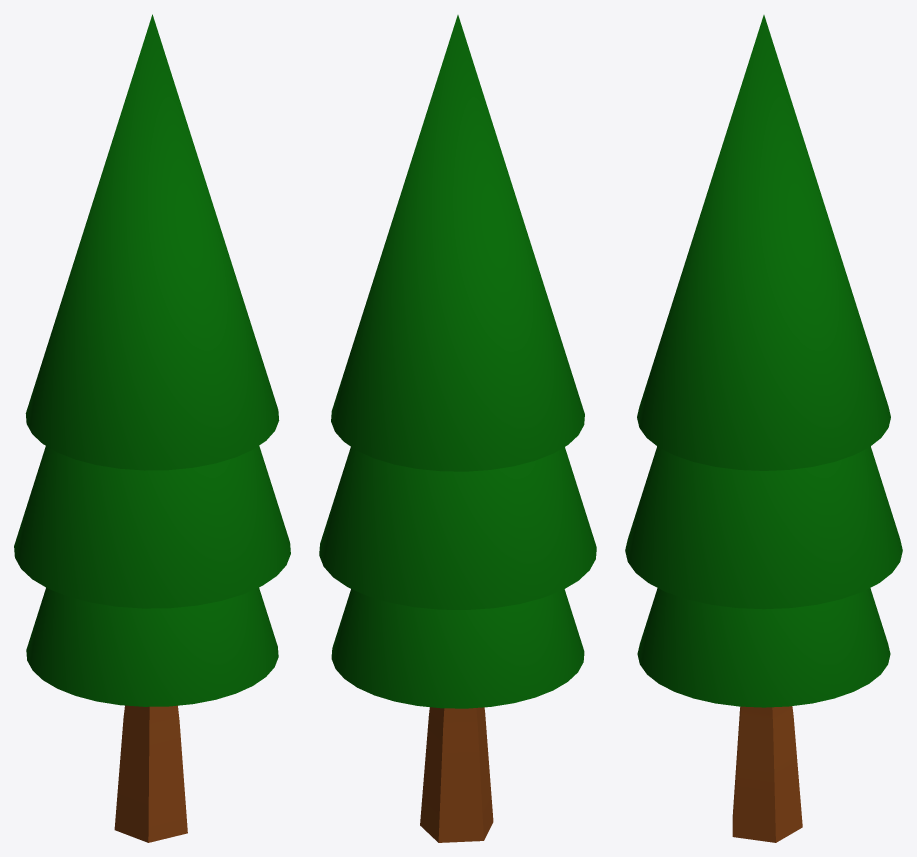
Rendered from tree2 (2).fbx.
3 views of the same model, side by side, from view 1: azimuth 30°, elevation 25°; view 2: azimuth 150°, elevation 25°; view 3: azimuth 270°, elevation 25° (orthographic).
Parts seen in each view (by area): view 1: Cylinder.001; view 2: Cylinder.001; view 3: Cylinder.001.
Part boxes in pixels (x1,y1,x2,y2): Cylinder.001: (14, 14, 290, 842); Cylinder.001: (319, 15, 596, 842); Cylinder.001: (625, 15, 902, 842).
Bounding box in the file's own units: 389 × 1256 × 389.
1 material, 1 textured.
